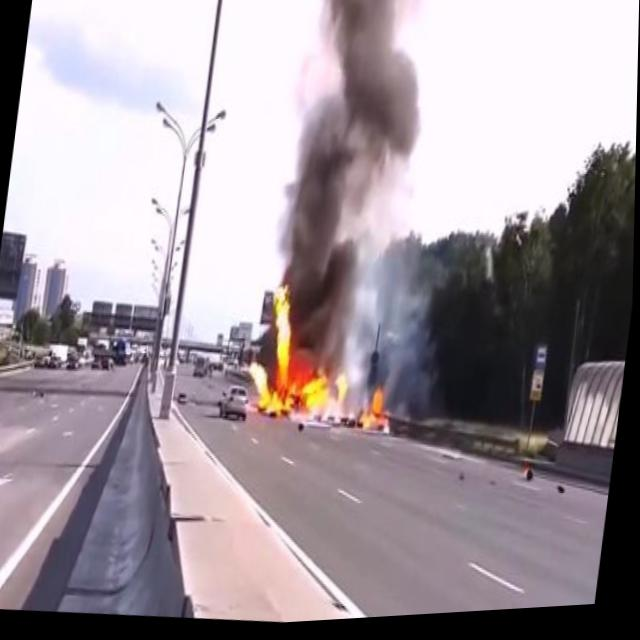fire: (242, 280, 365, 434), (361, 384, 395, 439)
